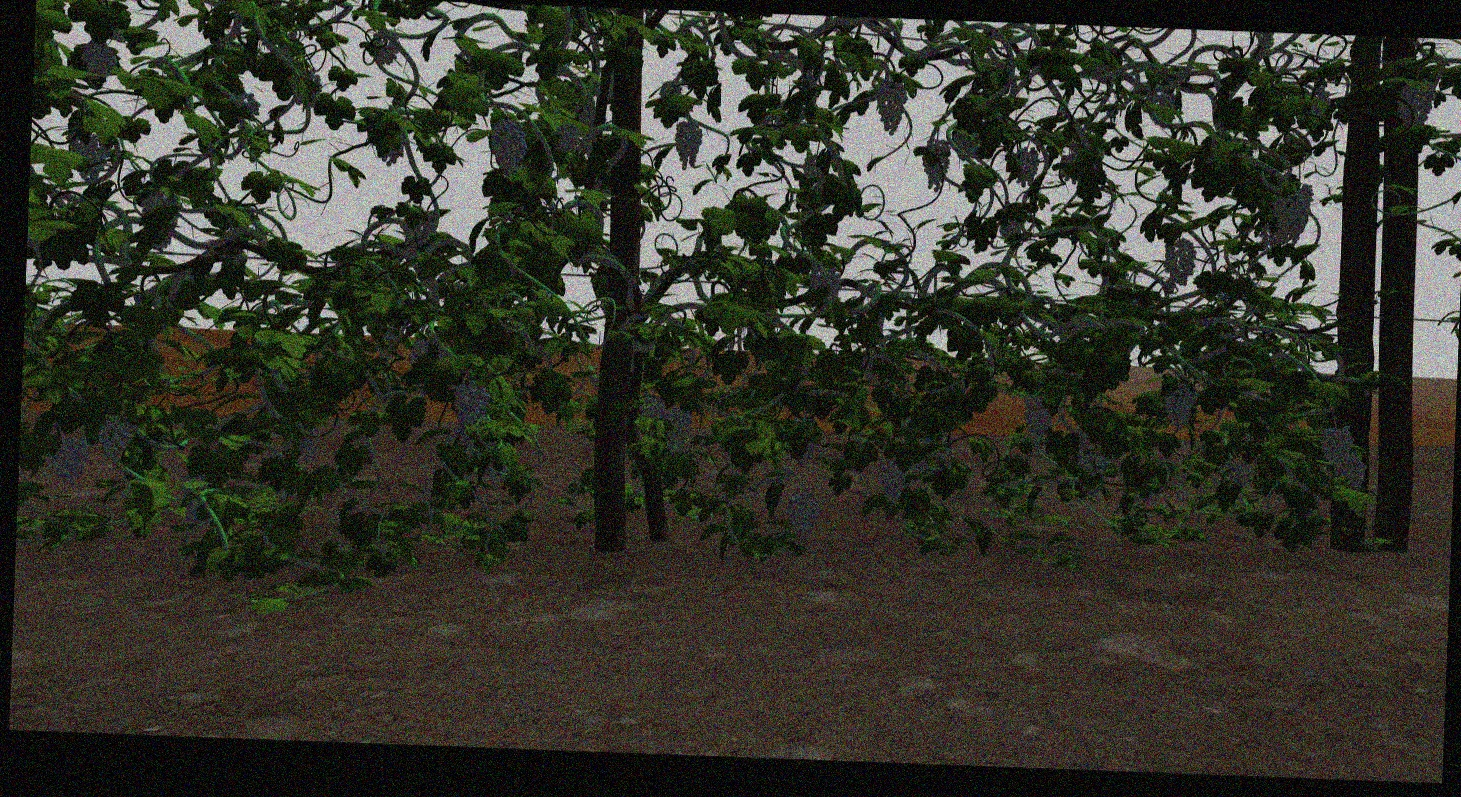grape: (1273, 181, 1315, 243), (48, 431, 89, 486), (452, 384, 492, 440), (1397, 77, 1435, 132), (490, 115, 527, 171), (874, 77, 908, 135), (1162, 378, 1197, 430), (786, 491, 819, 545), (1021, 390, 1052, 447), (1163, 236, 1197, 286), (672, 119, 704, 170), (921, 138, 951, 192), (94, 418, 135, 457), (878, 455, 907, 505), (81, 39, 118, 76), (1320, 425, 1354, 465), (812, 268, 843, 308), (1226, 447, 1257, 486), (1010, 147, 1039, 187), (1335, 458, 1367, 490), (667, 410, 694, 445), (555, 121, 581, 153), (1078, 450, 1107, 478), (640, 396, 668, 420)
